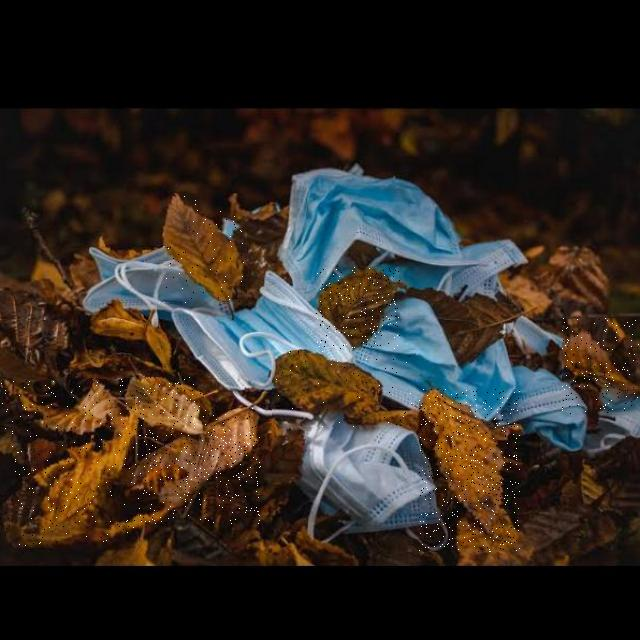biowaste: (7, 416, 139, 546), (419, 390, 520, 552), (127, 409, 261, 524), (272, 350, 416, 427), (163, 193, 245, 303), (562, 319, 639, 414), (316, 267, 400, 351), (4, 380, 130, 435), (0, 381, 94, 433), (126, 378, 204, 436)
